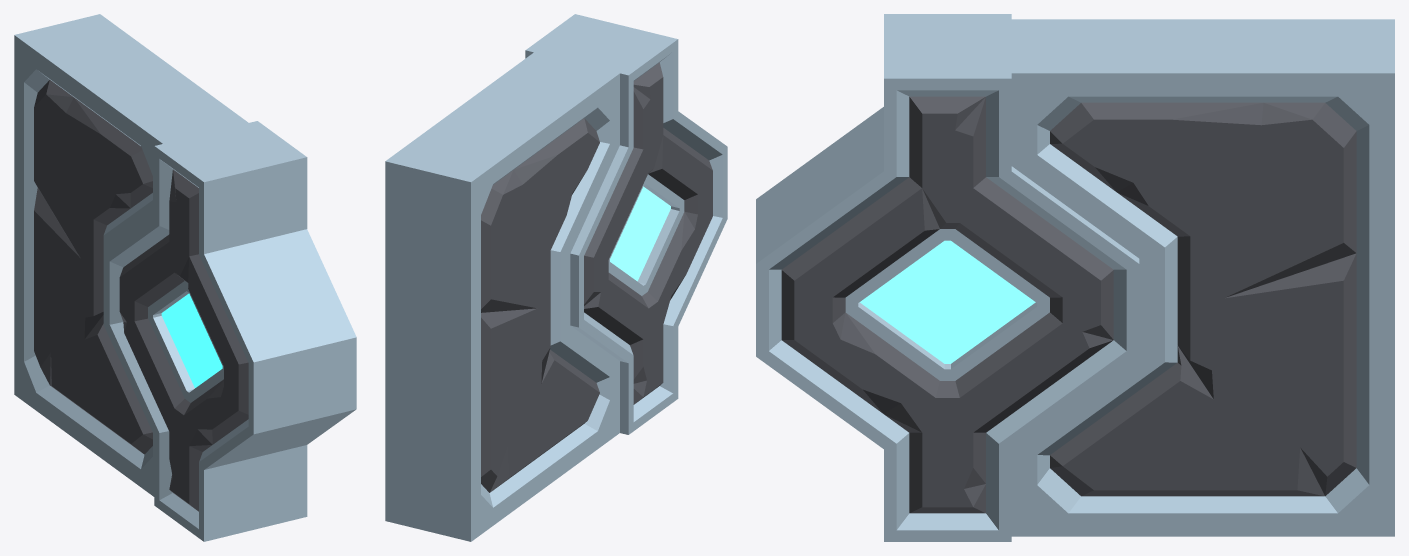
Rendered from Door_Left.fbx.
The picture shows the model from 3 angles, left to right: view 1: azimuth 30°, elevation 25°; view 2: azimuth 150°, elevation 25°; view 3: azimuth 270°, elevation 25°; orthographic projection. The views are drawn at different scales.
Parts seen in each view (by area): view 1: Door_Left; view 2: Door_Left; view 3: Door_Left.
Part boxes in pixels (x1,y1,x2,y2): Door_Left: [14, 14, 356, 541]; Door_Left: [385, 14, 727, 541]; Door_Left: [756, 14, 1394, 541].
Size of the model in its own units: 1.2 by 4 by 5.
